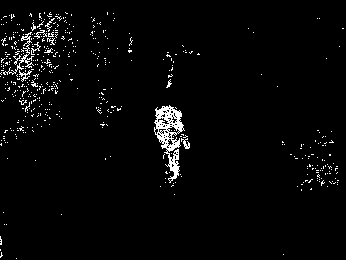person: (149, 104, 193, 192)
